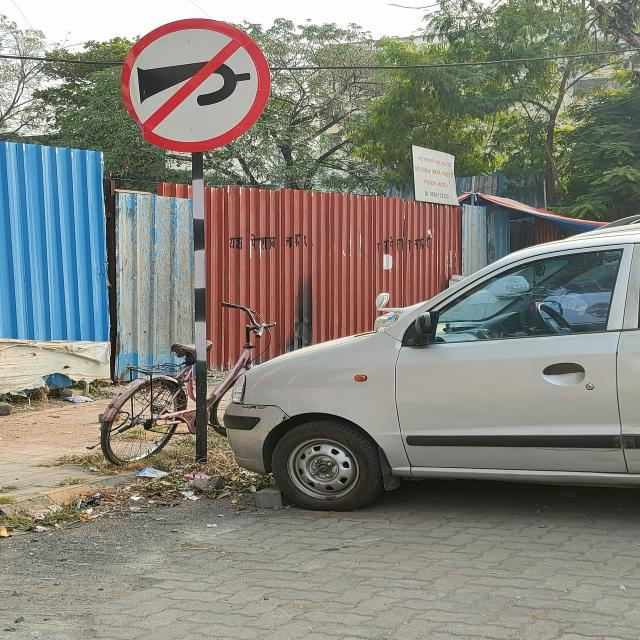HORN_PROHIBITED: (121, 17, 271, 152)
